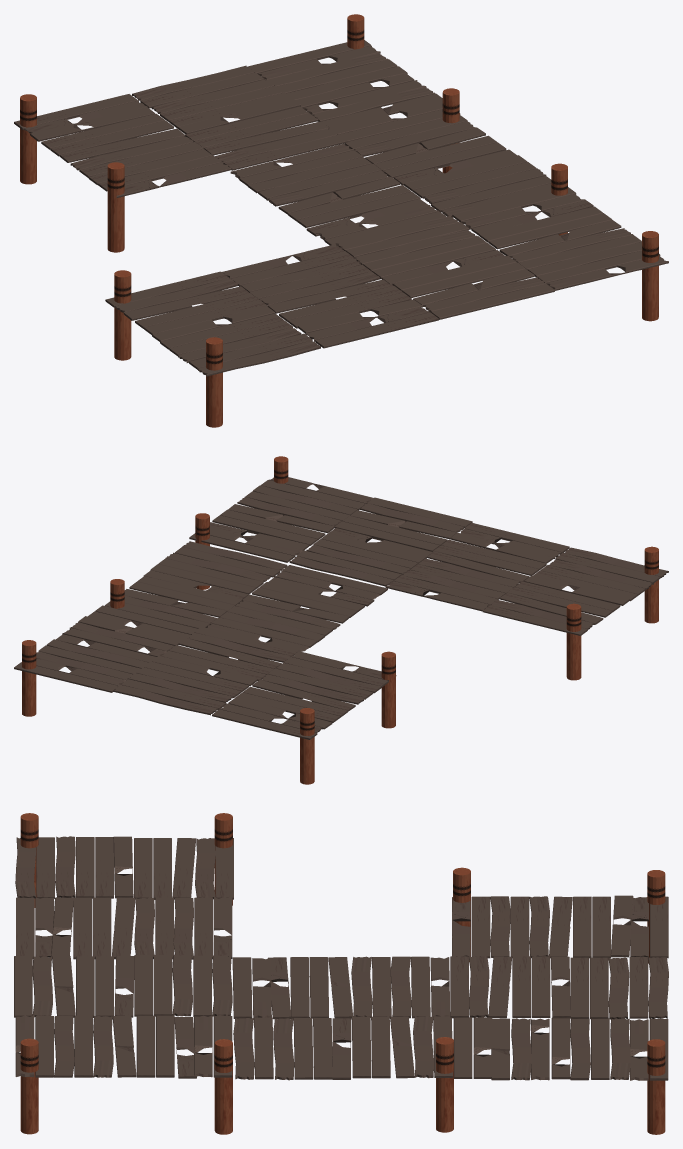
Rendered from Puerto.fbx.
3 renders of one model, top to bottom at view 1: azimuth 30°, elevation 25°; view 2: azimuth 150°, elevation 25°; view 3: azimuth 270°, elevation 25°, orthographic. The views are drawn at different scales.
Parts seen in each view (by area): view 1: Cylinder.001; view 2: Cylinder.001; view 3: Cylinder.001.
Boxes of the visible parts, left/top/right/bottom form: Cylinder.001: left=14, top=14, right=668, bottom=427; Cylinder.001: left=14, top=456, right=668, bottom=784; Cylinder.001: left=14, top=813, right=668, bottom=1134.
Size of the model in its own units: 1192 by 203 by 1370.
